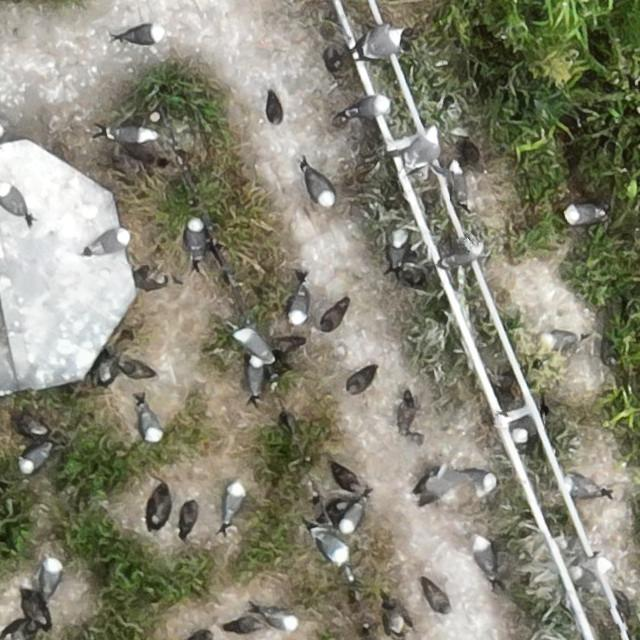umineko: (515, 406, 550, 442), (405, 129, 442, 162), (449, 161, 473, 211), (90, 228, 130, 254), (364, 29, 402, 56), (120, 24, 164, 46), (102, 127, 160, 143), (318, 533, 348, 563), (236, 329, 268, 357), (306, 172, 332, 206), (539, 330, 583, 349), (567, 562, 596, 588), (21, 444, 49, 469), (42, 558, 62, 593), (2, 187, 26, 216), (567, 203, 601, 223), (225, 484, 244, 519), (140, 408, 160, 441), (350, 96, 386, 114), (264, 611, 296, 631), (340, 503, 362, 531), (290, 290, 308, 323), (570, 476, 601, 495), (476, 541, 494, 572), (443, 252, 479, 267), (187, 220, 205, 248), (247, 359, 261, 394), (472, 472, 496, 492), (391, 237, 405, 266)
